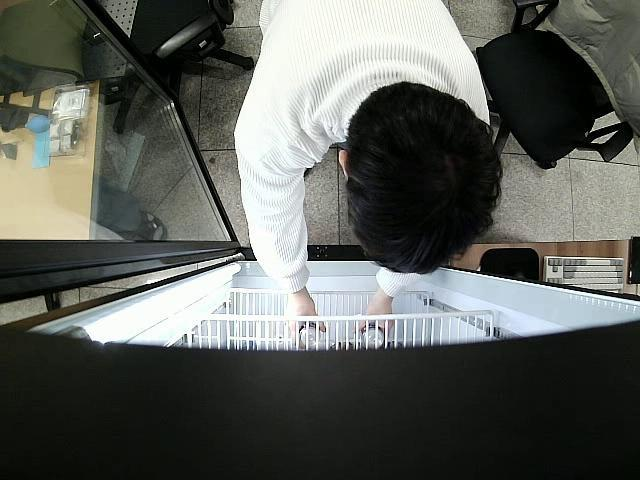16_hot6: (298, 322, 324, 348), (360, 322, 386, 347)
